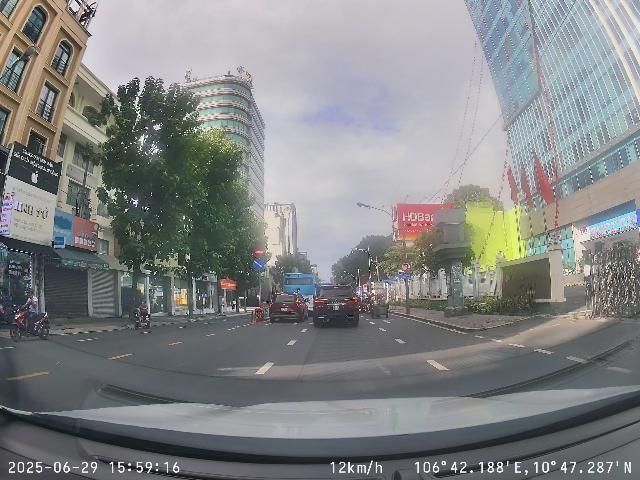102-cam-di-nguoc-chieu: (253, 246, 265, 258)
123a-cam-re-trai: (401, 261, 411, 272)
302a-huong-phai-di-vong-chuong-ngai-vat-1: (253, 259, 264, 270)
